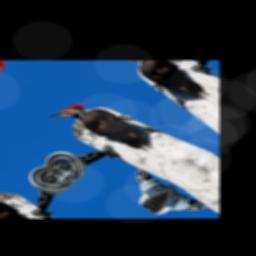Woodpecker: (46, 86, 167, 167)
